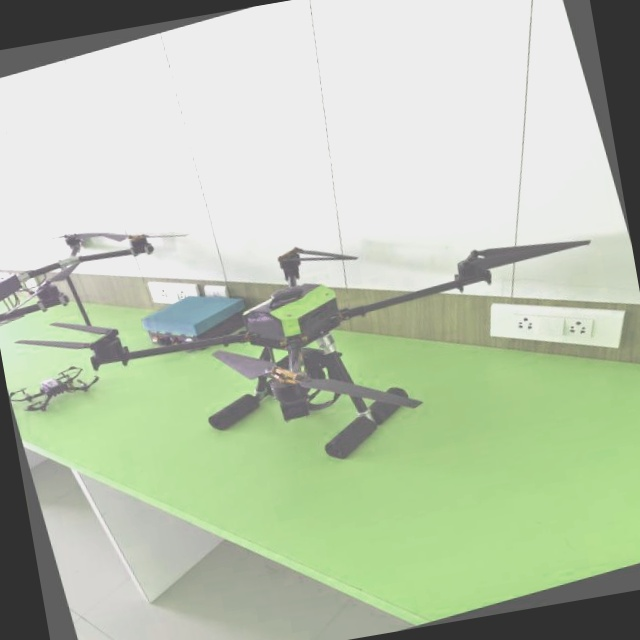quadcopter: (0, 146, 640, 541)
